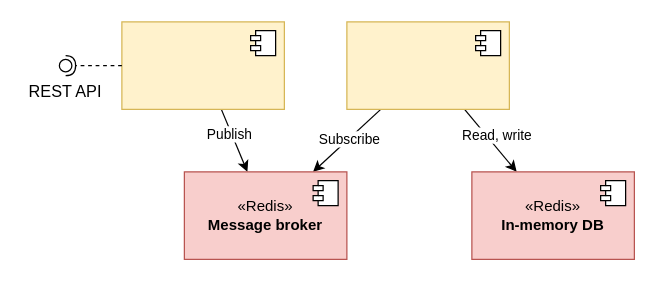
Some shapes in this 656 by 281 pixel diagram are drawn without their labels. Here are the shapes that lost their labels. From the top down, the centre of each, then its label:
pixel 202 65: «Python Flask» api-publisher
pixel 427 65: «Python» bayes-subscriber
